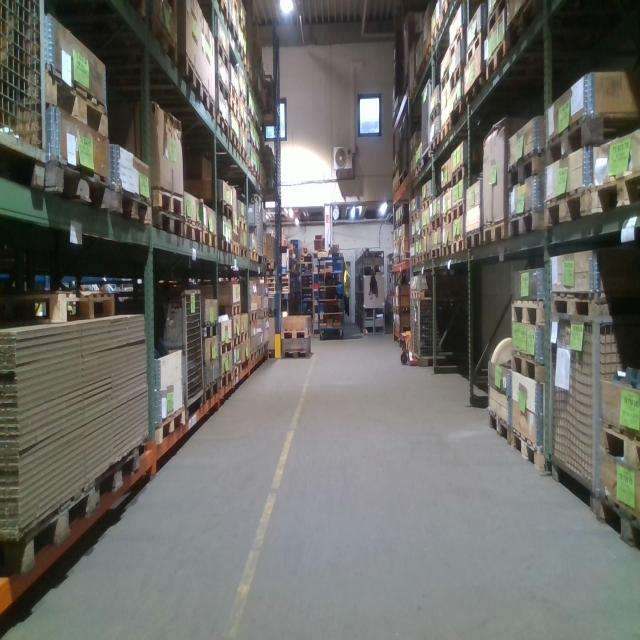pallet: (1, 486, 93, 577), (40, 62, 114, 135), (37, 150, 114, 219), (12, 283, 121, 331), (546, 112, 638, 162), (95, 437, 147, 515), (547, 284, 639, 324), (597, 486, 639, 556), (544, 183, 597, 233), (591, 166, 640, 216), (599, 419, 638, 474), (106, 180, 150, 227), (507, 146, 548, 195), (151, 8, 183, 70), (482, 39, 520, 87), (511, 427, 548, 476), (153, 404, 186, 450), (507, 206, 548, 243), (505, 293, 549, 327), (510, 349, 548, 385), (148, 207, 185, 243), (182, 45, 202, 111), (148, 184, 186, 213), (462, 70, 486, 114), (484, 404, 509, 443), (484, 218, 507, 254), (450, 26, 472, 63), (450, 161, 478, 190), (486, 1, 509, 34), (201, 79, 216, 129), (112, 2, 143, 25), (448, 61, 465, 98), (464, 30, 483, 63), (216, 297, 242, 321), (206, 0, 230, 24), (203, 375, 220, 408), (450, 99, 467, 132), (184, 219, 202, 250), (204, 200, 235, 217), (236, 5, 250, 42), (409, 290, 452, 302), (450, 199, 469, 226), (281, 323, 313, 339), (215, 72, 230, 106), (216, 105, 230, 141), (232, 357, 249, 386), (228, 14, 240, 54), (224, 95, 241, 123), (203, 224, 219, 253), (429, 11, 440, 51), (430, 129, 445, 158), (280, 347, 311, 361), (216, 42, 230, 73), (199, 318, 218, 340), (216, 336, 234, 359), (467, 229, 483, 254), (227, 78, 241, 106), (440, 0, 458, 21), (452, 235, 468, 258), (428, 105, 444, 128), (228, 127, 241, 155), (217, 232, 232, 256), (218, 370, 234, 392), (237, 39, 248, 70), (246, 347, 260, 370), (244, 59, 254, 89), (421, 197, 439, 213), (428, 213, 441, 235), (440, 66, 450, 94), (425, 41, 435, 69), (441, 118, 450, 147), (429, 244, 441, 264), (237, 216, 249, 235), (230, 238, 240, 260), (442, 208, 453, 228), (249, 247, 261, 265), (399, 167, 409, 188), (248, 153, 256, 179), (419, 224, 432, 240), (416, 66, 424, 90), (233, 332, 243, 351), (408, 79, 416, 102), (246, 309, 259, 323), (240, 141, 247, 167), (241, 114, 249, 136), (443, 240, 451, 261), (400, 251, 412, 265), (409, 168, 416, 192), (260, 341, 269, 359), (241, 328, 249, 348), (259, 307, 270, 321), (399, 217, 412, 228), (416, 158, 422, 181), (409, 232, 418, 246), (400, 235, 411, 246), (408, 256, 416, 271), (391, 305, 411, 311), (393, 180, 400, 197), (240, 244, 246, 261), (424, 251, 433, 262), (411, 210, 420, 221), (417, 253, 423, 269), (392, 256, 400, 267), (392, 237, 399, 249), (393, 219, 399, 228)
pallet_truck: (394, 271, 418, 368)
stillage: (548, 306, 639, 521), (1, 1, 50, 201), (155, 287, 202, 426), (413, 299, 471, 366), (249, 192, 263, 266), (409, 297, 414, 354)
